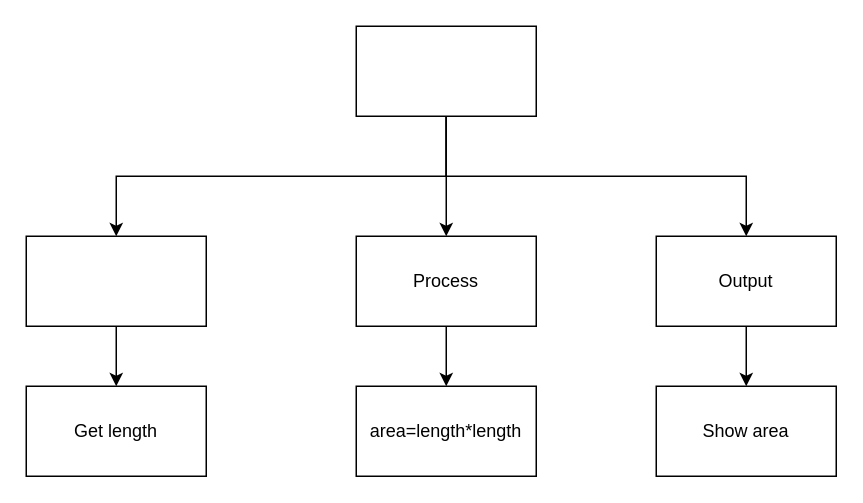
Image size: 863x503. Some labels were removed from this diagram. Each missing label, with the centre of its shape:
"Area of the Square" goes at (445,70).
"Input" goes at (115,280).
